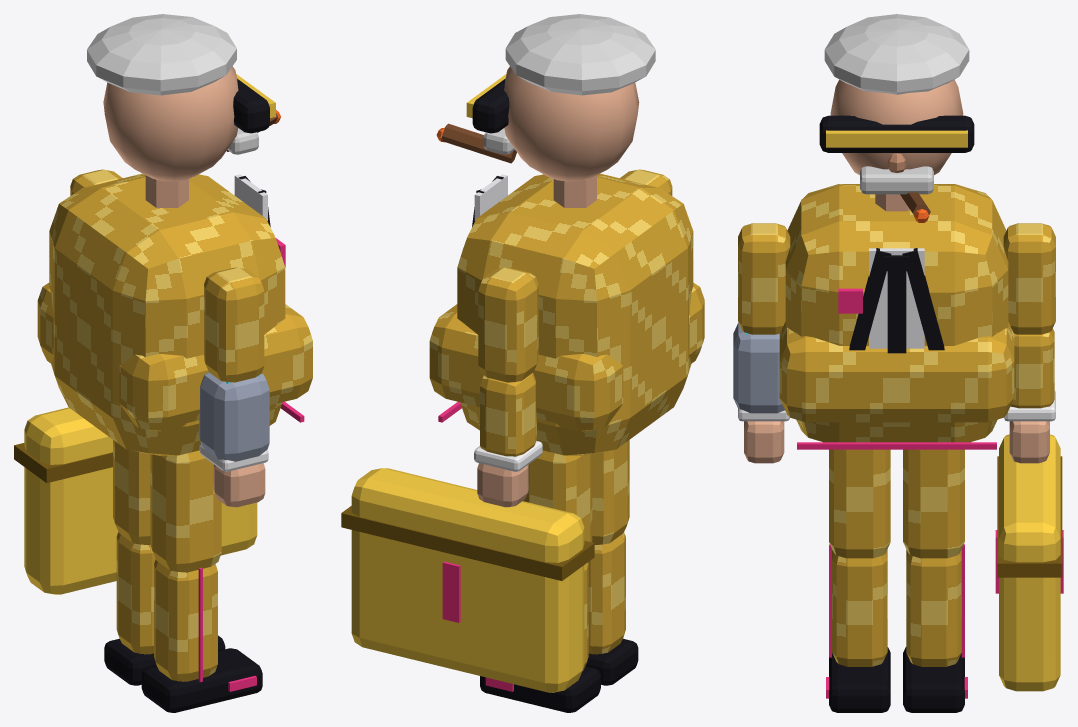
File: directeur.glb
The picture shows the model from 3 angles, left to right: view 1: azimuth 30°, elevation 25°; view 2: azimuth 150°, elevation 25°; view 3: azimuth 270°, elevation 25°; orthographic projection.
Parts seen in each view (by area): view 1: p_rbox.167, p_rbox.172, p_rbox.168, p_sph.318, p_sph.320, p_rbox.153, p_rbox.154, p_rbox.156, p_rbox.171, p_rbox.161, p_rbox.155, p_rbox.160 (+10 smaller); view 2: p_rbox.167, p_rbox.172, p_rbox.168, p_sph.318, p_sph.320, p_rbox.163, p_rbox.164, p_box.913, p_rbox.154, p_rbox.160, p_rbox.153, p_rbox.162 (+10 smaller); view 3: p_rbox.167, p_rbox.168, p_rbox.172, p_sph.320, p_rbox.160, p_rbox.153, p_rbox.154, p_rbox.161, p_sph.318, p_rbox.163, p_rbox.156, p_rbox.171 (+16 smaller).
Part boxes in pixels (x1,y1,x2,y2): p_rbox.167: [49, 173, 285, 455]; p_rbox.172: [24, 407, 257, 594]; p_rbox.168: [37, 283, 312, 431]; p_sph.318: [103, 66, 238, 181]; p_sph.320: [87, 14, 236, 95]; p_rbox.153: [150, 450, 221, 572]; p_rbox.154: [154, 559, 217, 681]; p_rbox.156: [204, 267, 264, 382]; p_rbox.171: [198, 372, 269, 461]; p_rbox.161: [116, 532, 155, 654]; p_rbox.155: [141, 648, 262, 712]; p_rbox.160: [113, 440, 150, 545]; p_rbox.167: [457, 173, 693, 455]; p_rbox.172: [351, 468, 584, 692]; p_rbox.168: [429, 282, 704, 431]; p_sph.318: [504, 66, 639, 181]; p_sph.320: [505, 14, 655, 95]; p_rbox.163: [478, 267, 538, 382]; p_rbox.164: [480, 373, 536, 456]; p_box.913: [341, 506, 594, 580]; p_rbox.154: [588, 532, 625, 654]; p_rbox.160: [523, 450, 592, 542]; p_rbox.153: [592, 440, 629, 544]; p_rbox.162: [480, 666, 600, 712]; p_rbox.167: [785, 184, 1008, 442]; p_rbox.168: [779, 321, 1014, 422]; p_rbox.172: [999, 434, 1060, 691]; p_sph.320: [824, 14, 969, 94]; p_rbox.160: [903, 449, 964, 558]; p_rbox.153: [829, 449, 890, 558]; p_rbox.154: [832, 549, 887, 666]; p_rbox.161: [906, 549, 961, 666]; p_sph.318: [830, 79, 963, 174]; p_rbox.163: [1003, 223, 1055, 334]; p_rbox.156: [738, 223, 790, 334]; p_rbox.171: [733, 322, 784, 413].
Size of the model in its own units: 0.87 by 2.33 by 1.07.
15 materials, 1 textured.
